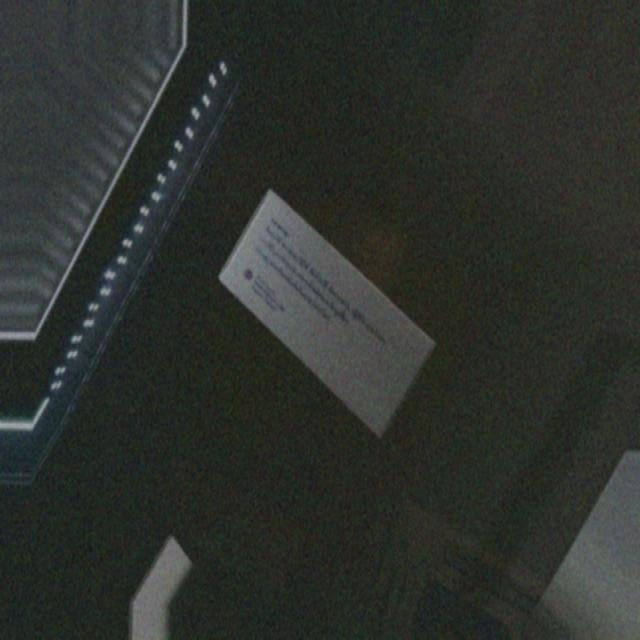sefloc: (198, 187, 456, 439)
